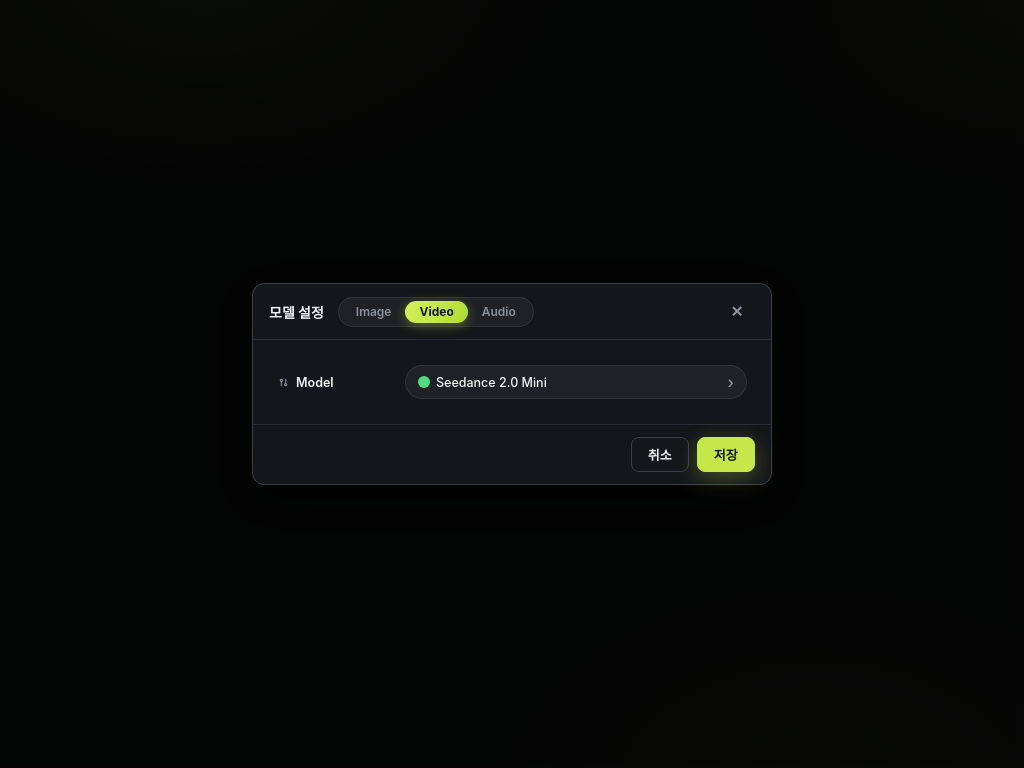
Test: 씬 모델 노드 복원 › ★복원한 **뒤** 사용자가 반대 탭을 누르면 그 선택이 유지된다
Click the button "Image".
click(374, 312)  # box [342,300,405,322]
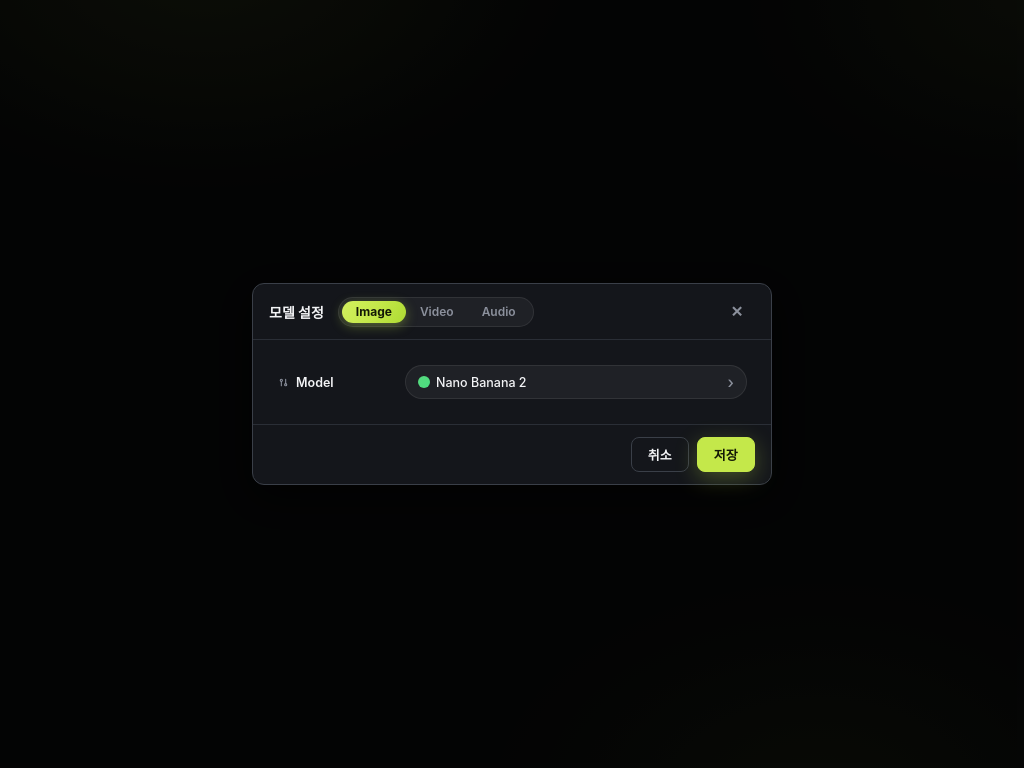
Expected: the text with class "sl-chip-label" reads "Nano Banana 2", [436,374,526,390]
